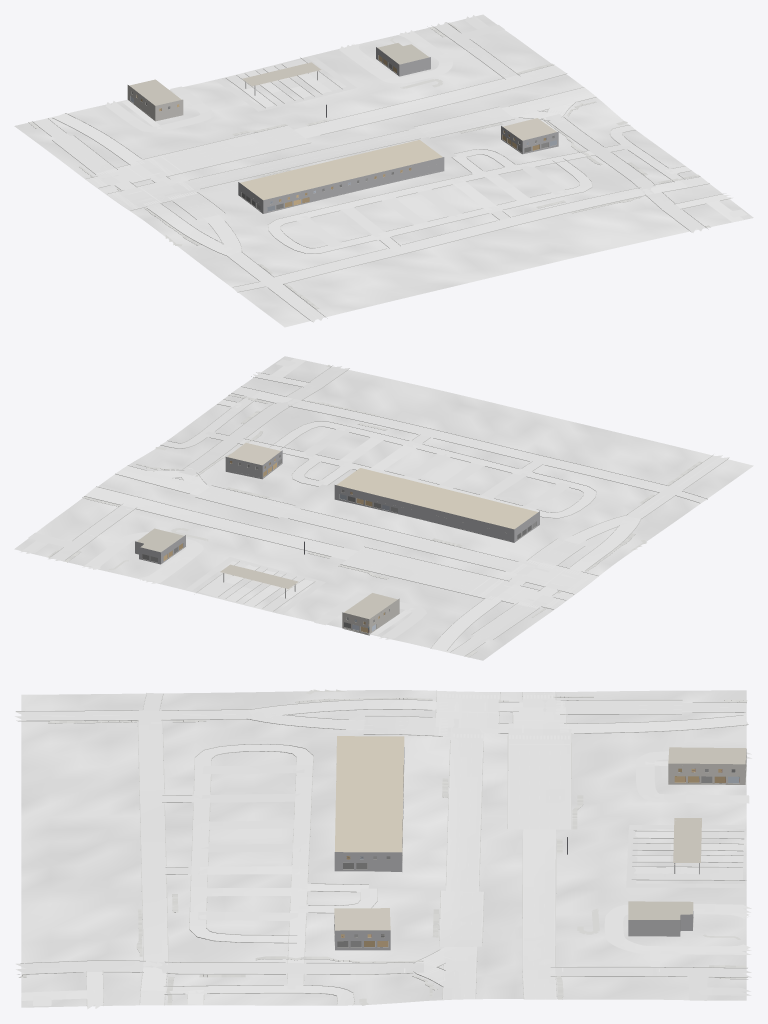
3 views of the same model, one above another, from view 1: azimuth 30°, elevation 25°; view 2: azimuth 150°, elevation 25°; view 3: azimuth 270°, elevation 25° (orthographic). The views are drawn at different scales.
Visible parts, largest first — view 1: ground, concrete, asphalt, roof_flat, curb, wall_com, walk, mark_w, glass_lit, mark_y; view 2: ground, asphalt, concrete, roof_flat, curb, wall_com, walk, mark_w, mark_y; view 3: ground, concrete, asphalt, roof_flat, curb, wall_com, walk, mark_w, mark_y, glass_lit.
Boxes of the visible parts, x1,y1,x2,y2 form: ground: (14,14,753,327); concrete: (106,15,747,291); asphalt: (33,22,595,322); roof_flat: (129,43,556,200); curb: (28,22,731,321); wall_com: (127,47,558,213); walk: (28,22,710,309); mark_w: (33,65,594,320); glass_lit: (130,55,556,211); mark_y: (48,74,583,319); ground: (14,356,753,660); asphalt: (48,455,729,656); concrete: (20,358,707,639); roof_flat: (137,443,537,619); curb: (49,365,728,656); wall_com: (135,450,539,635); walk: (47,365,701,657); mark_w: (87,456,724,655); mark_y: (96,457,720,652); ground: (21,690,746,1007); concrete: (16,693,751,1009); asphalt: (15,691,751,999); roof_flat: (334,736,746,930); curb: (16,690,750,1006); wall_com: (334,747,746,950); walk: (19,689,747,1005); mark_w: (16,691,746,999); mark_y: (42,692,745,999); glass_lit: (341,768,738,946).
Bounding box in the file's own units: 254 × 11.38 × 255.
